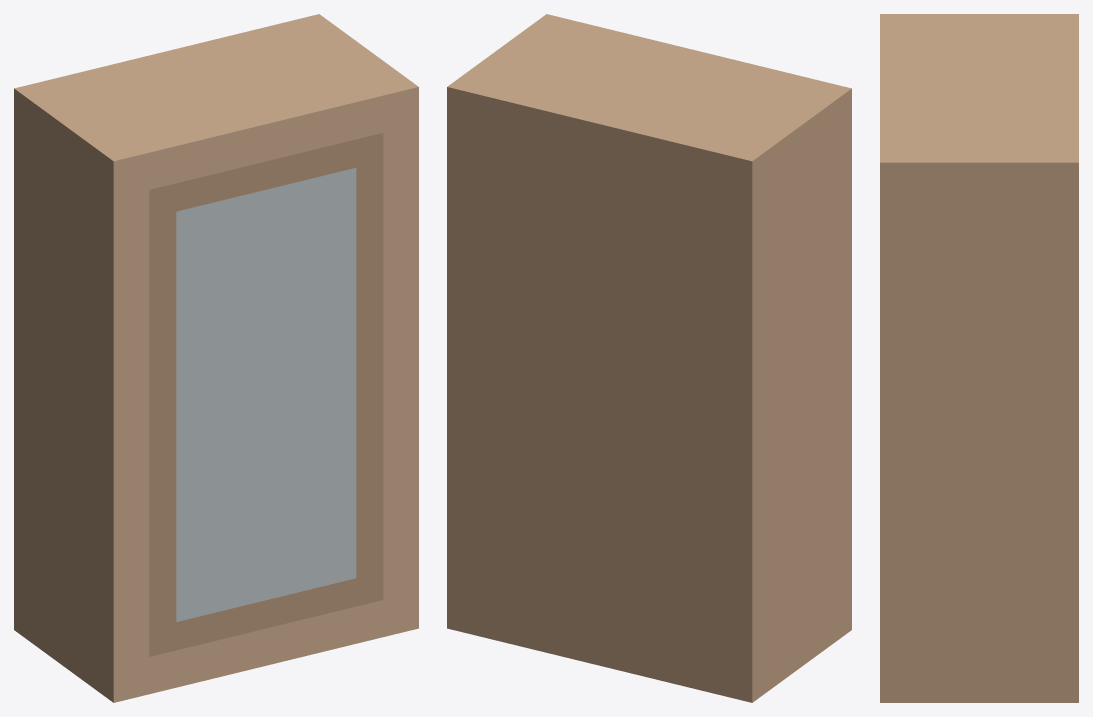
File: bathroomCabinet.glb
3 renders of one model, left to right at view 1: azimuth 30°, elevation 25°; view 2: azimuth 150°, elevation 25°; view 3: azimuth 270°, elevation 25°, orthographic.
Parts seen in each view (by area): view 1: bathroomCabinet; view 2: bathroomCabinet; view 3: bathroomCabinet.
Part boxes in pixels (left/top/right/bottom): bathroomCabinet: left=14, top=14, right=418, bottom=702; bathroomCabinet: left=447, top=14, right=851, bottom=702; bathroomCabinet: left=880, top=14, right=1078, bottom=702.
Size of the model in its own units: 0.23 by 0.39 by 0.13.
